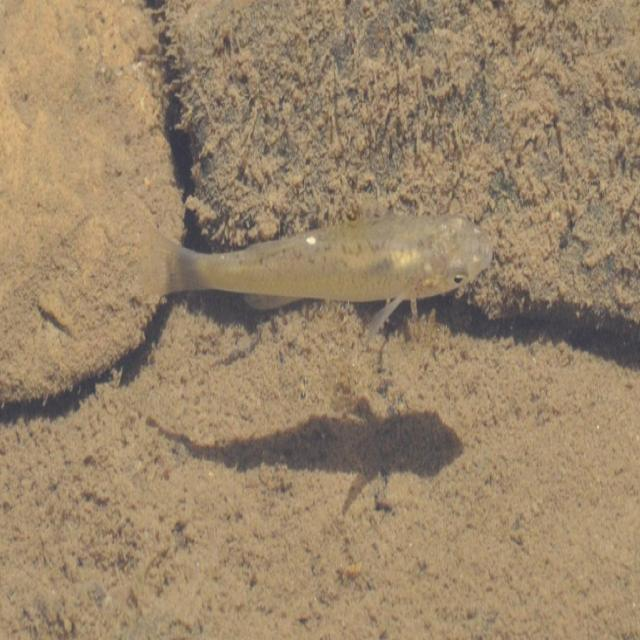Sivrisinek Baligi: (146, 205, 500, 343)
